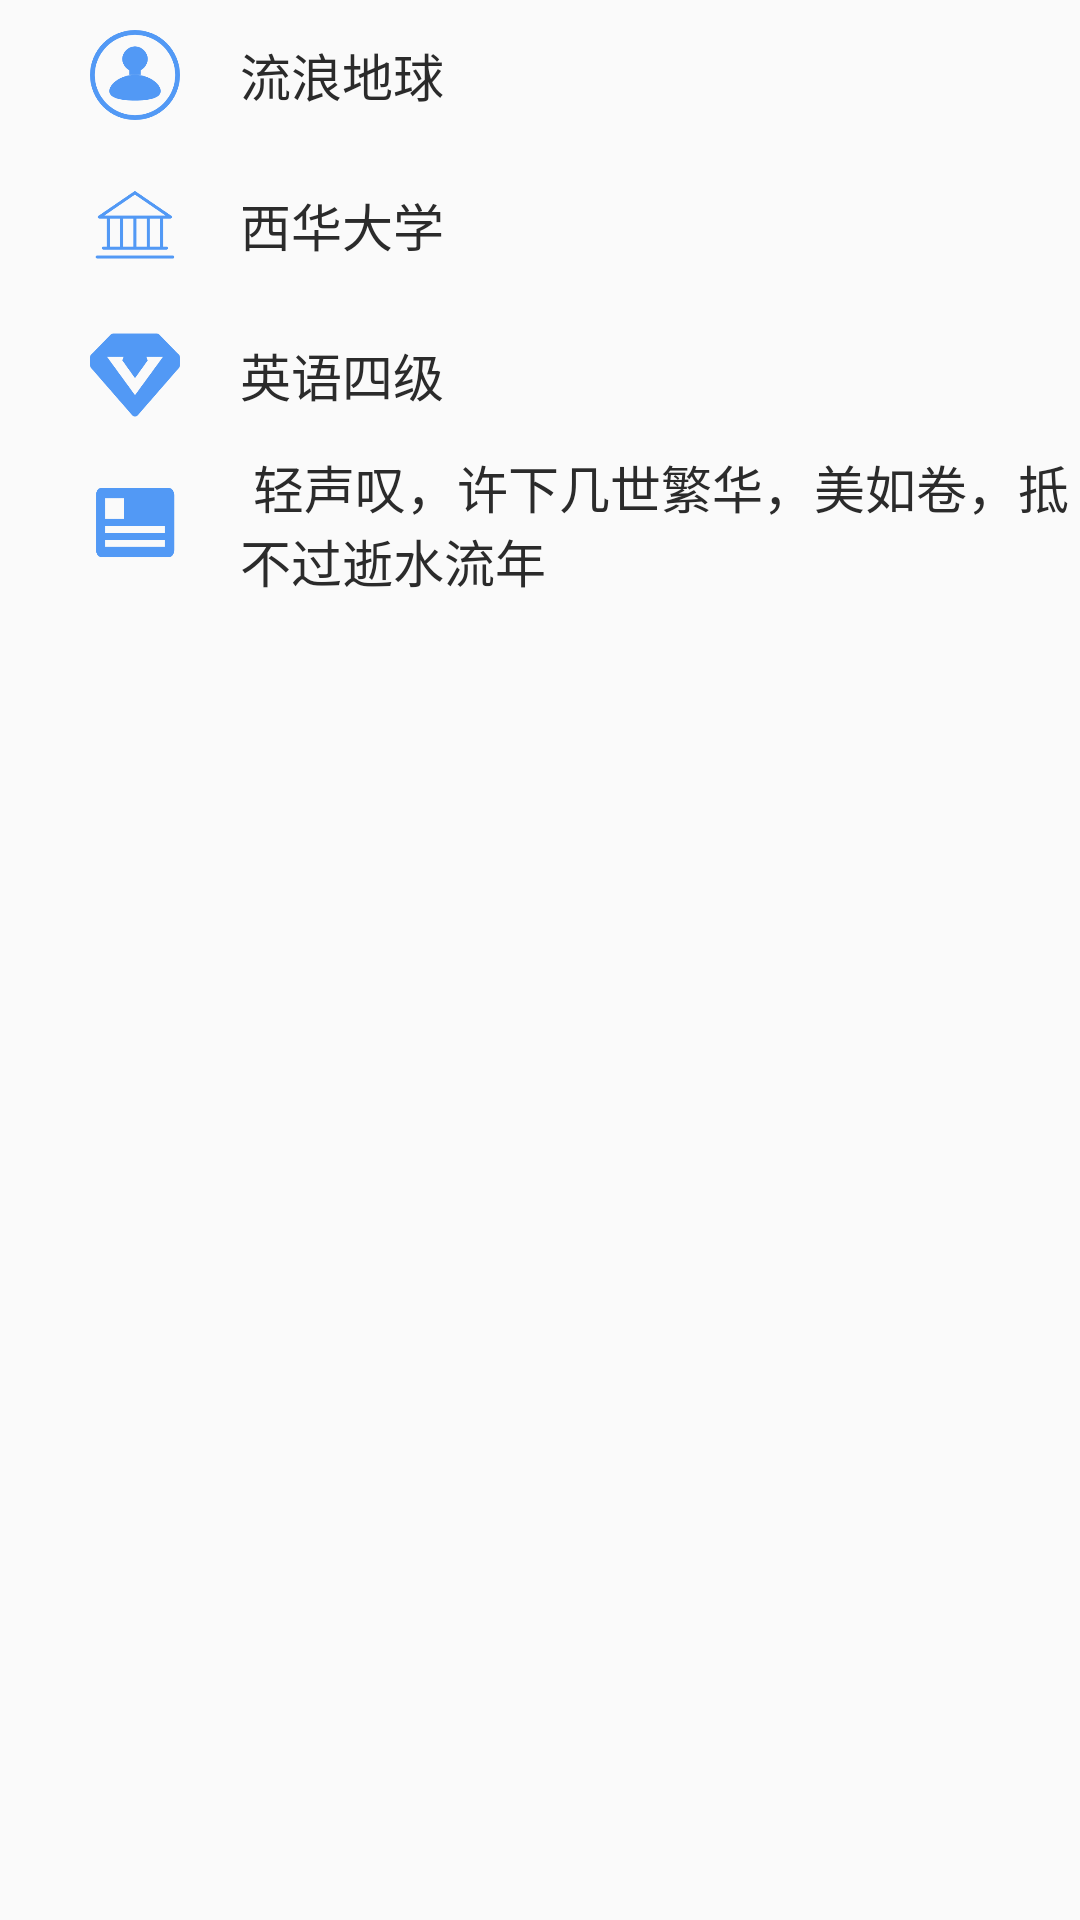

Icons on this 1080 x 1920 Android screen, each with the point to tap as point (x, y):
self dj: point (135, 375)
self xuexiao: point (134, 225)
wode: point (135, 75)
